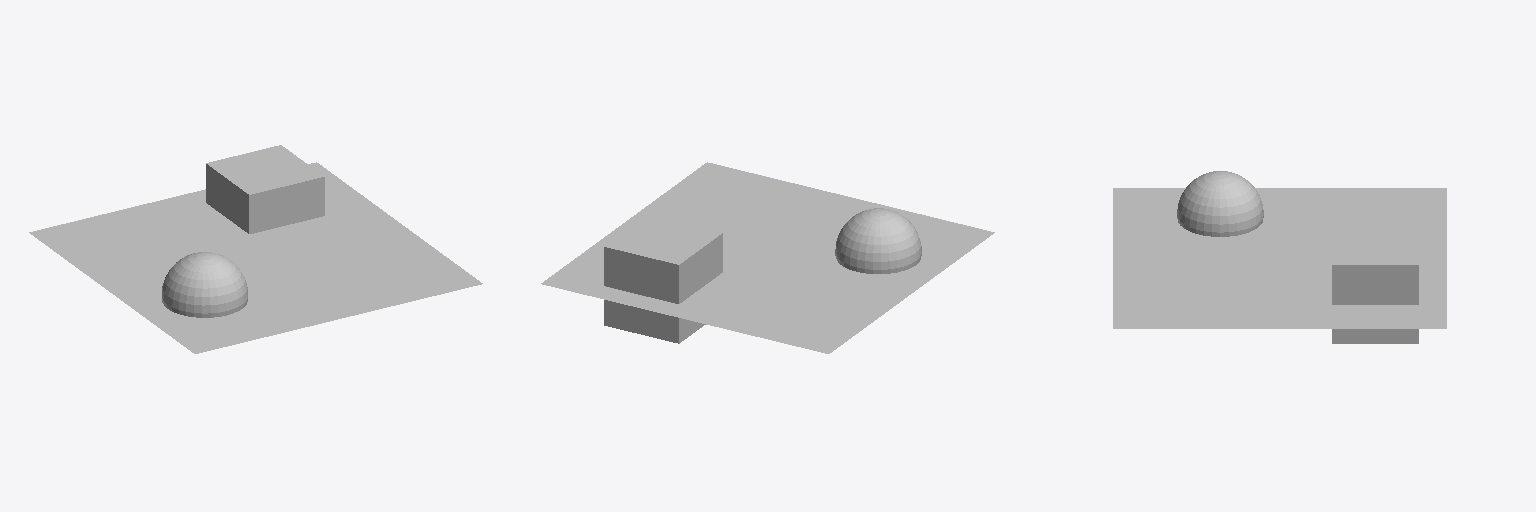
The model's file is test_bake_.obj.
3 views of the same model, side by side, from view 1: azimuth 30°, elevation 25°; view 2: azimuth 150°, elevation 25°; view 3: azimuth 270°, elevation 25° (orthographic).
Parts seen in each view (by area): view 1: Cube; view 2: Cube; view 3: Cube.
Part boxes in pixels (x1,y1,x2,y2): Cube: (29, 145, 482, 353); Cube: (541, 162, 994, 353); Cube: (1113, 171, 1446, 343).
Bounding box in the file's own units: 7.65 × 2.12 × 7.65.